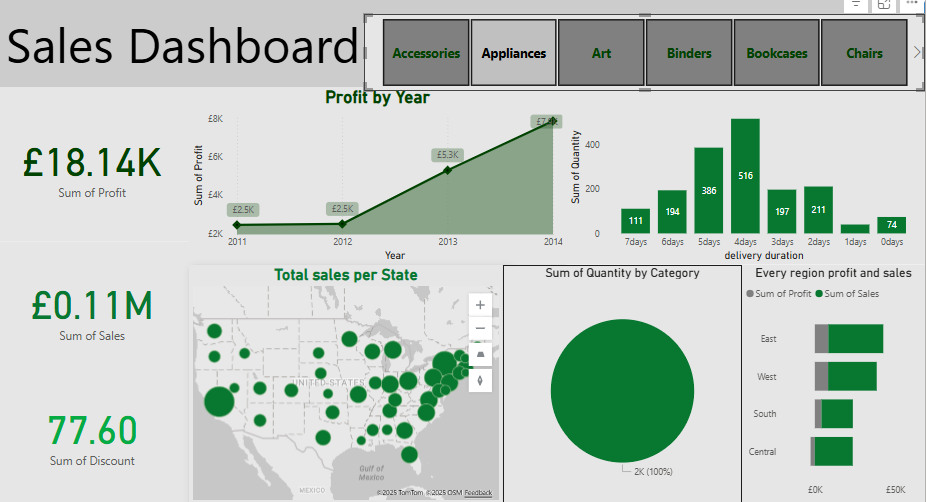

The page's visual inventory and layout, read from the dashboard file:
{"tool":"powerbi","page":{"name":"Page 1","canvas":[1280,720],"ordinal":0},"visuals":[{"type":"shape","title":"    ","box":[0,0,1280,152.9],"z":0},{"type":"card","fields":{"Values":["Sum(Data.Profit)"]},"box":[0,147.3,267,213.3],"z":1000},{"type":"card","fields":{"Values":["Sum(Data.Discount)"]},"box":[0,527.1,267,192.7],"z":2000},{"type":"card","fields":{"Values":["Sum(Data.Sales)"]},"box":[0,360.6,267,181.7],"z":3000},{"type":"areaChart","title":"Profit by Year","fields":{"Category":["Data.Year"],"Y":["Sum(Data.Profit)"]},"box":[267,147.3,518.9,245],"z":4000},{"type":"azureMap","title":"Total sales per State","fields":{"Size":["Sum(Data.Sales)"],"Category":["Data.State"]},"box":[267,392.3,432.2,327.6],"z":5000},{"type":"pieChart","fields":{"Category":["Data.Category"],"Y":["Sum(Data.Quantity)"]},"box":[699.2,392.3,328.9,327.6],"z":6000},{"type":"slicer","fields":{"Values":["Data.Sub-Category"]},"box":[507.9,46.8,772.1,106],"z":7000},{"type":"clusteredColumnChart","fields":{"Category":["Data.delivery duration"],"Y":["Sum(Data.Quantity)"]},"box":[786,153,494,239],"z":8000},{"type":"barChart","title":"Every region profit and sales ","fields":{"Category":["Data.Region"],"Y":["Sum(Data.Profit)","Sum(Data.Sales)"]},"box":[1028,392,252,328],"z":9000}]}

Visuals, with their boxes on the page's 1280x720 design canvas (x1, y1, x2, y2). These are canvas units, not pixel positions in the 927x502 screenshot, which may show the page scaled, cropped or inside an application window:
"    " shape: select_region(0, 0, 1280, 153)
card - Sum(Data.Profit): select_region(0, 147, 267, 361)
card - Sum(Data.Discount): select_region(0, 527, 267, 720)
card - Sum(Data.Sales): select_region(0, 361, 267, 542)
"Profit by Year" areaChart: select_region(267, 147, 786, 392)
"Total sales per State" azureMap: select_region(267, 392, 699, 720)
pieChart - Data.Category x Sum(Data.Quantity): select_region(699, 392, 1028, 720)
slicer - Data.Sub-Category: select_region(508, 47, 1280, 153)
clusteredColumnChart - Data.delivery duration x Sum(Data.Quantity): select_region(786, 153, 1280, 392)
"Every region profit and sales " barChart: select_region(1028, 392, 1280, 720)
